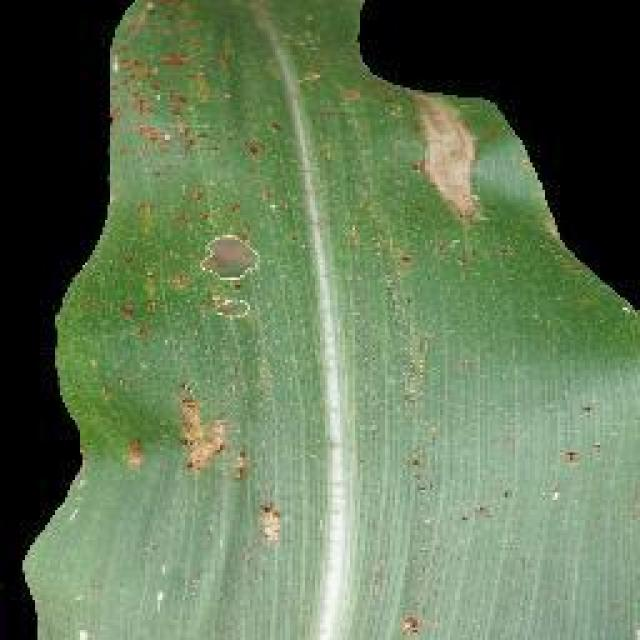Corn Common Rust: (144, 96, 558, 582)
